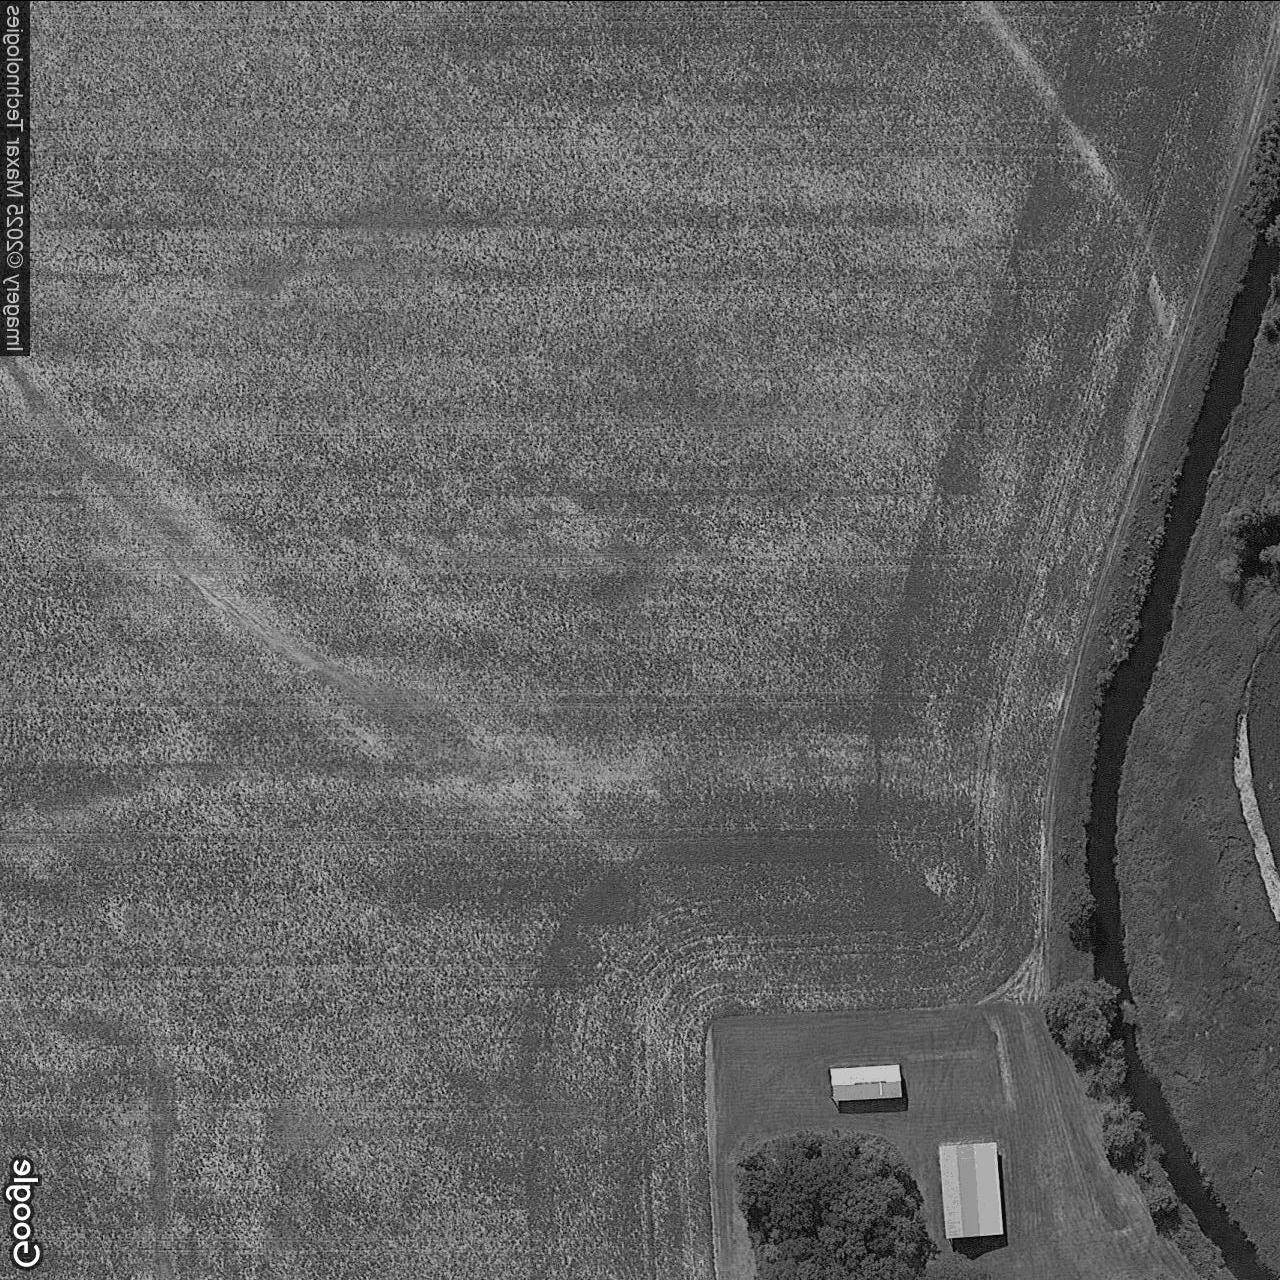Garage: (831, 1063, 903, 1099)
House: (939, 1141, 1003, 1238)
